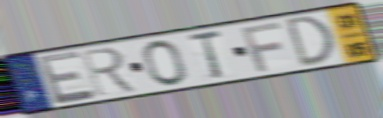D: (284, 14, 339, 70)
E: (35, 49, 99, 107)
F: (239, 20, 285, 73)
O: (141, 38, 189, 87)
R: (78, 45, 141, 98)
T: (184, 28, 226, 82)
